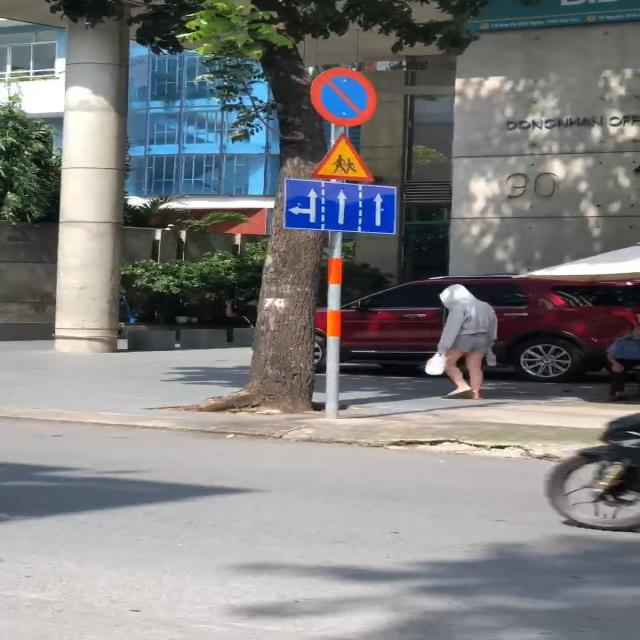Bien bao cam do xe: (306, 63, 377, 130)
Bien bao tre em: (306, 132, 380, 185)
